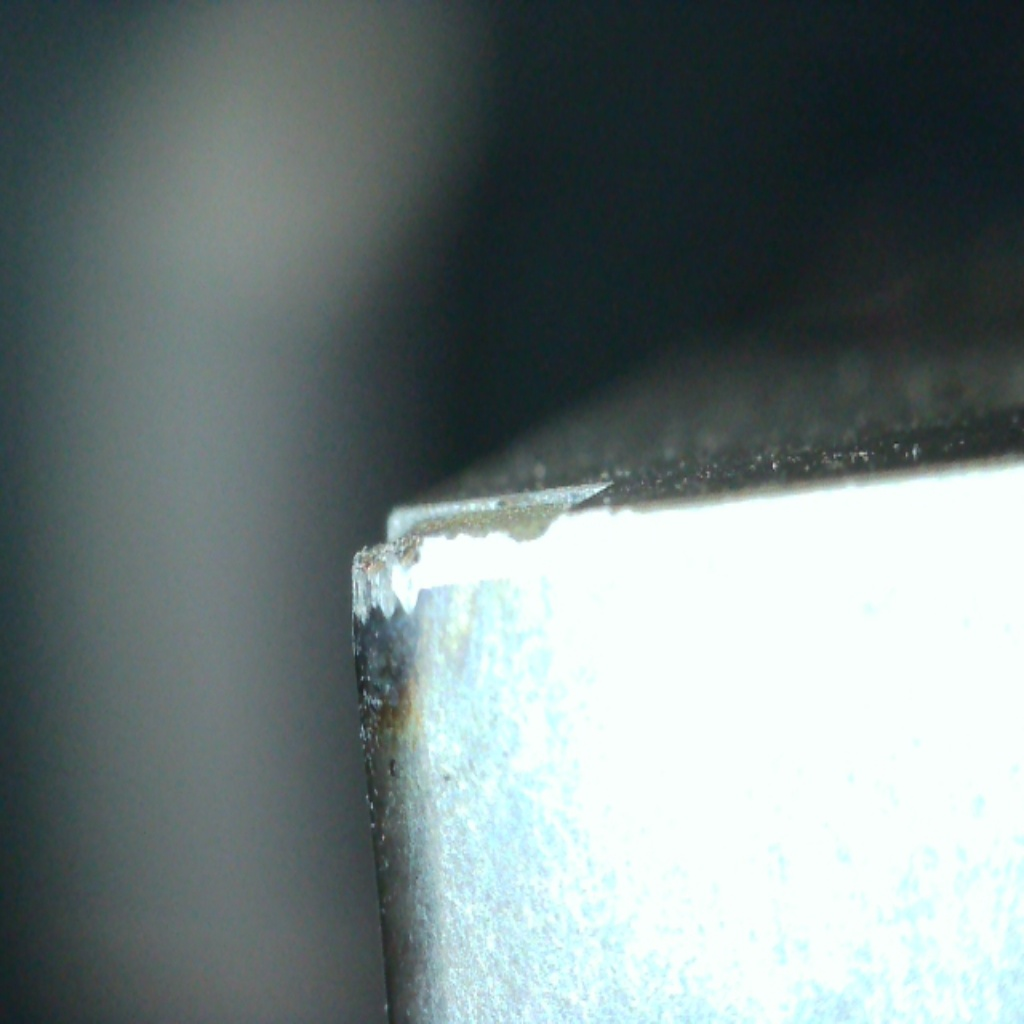flank_wear: (352, 591, 428, 629)
